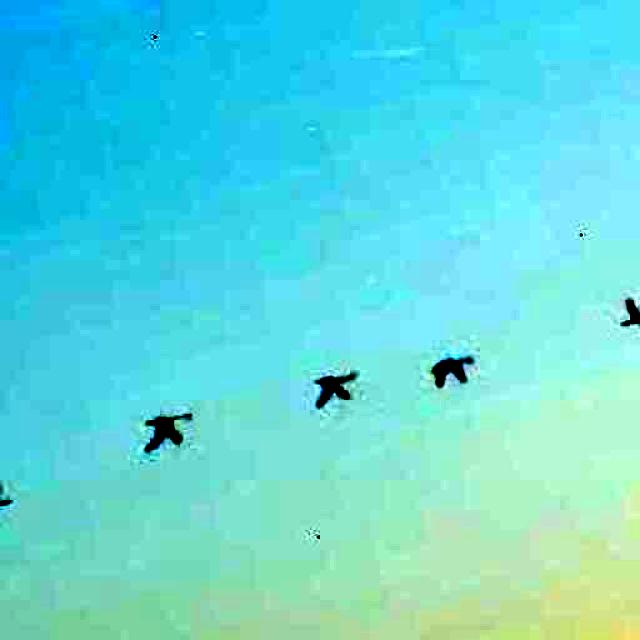airplane: (136, 406, 198, 456), (428, 350, 479, 392), (309, 369, 361, 409), (614, 290, 640, 332), (0, 478, 12, 519)
